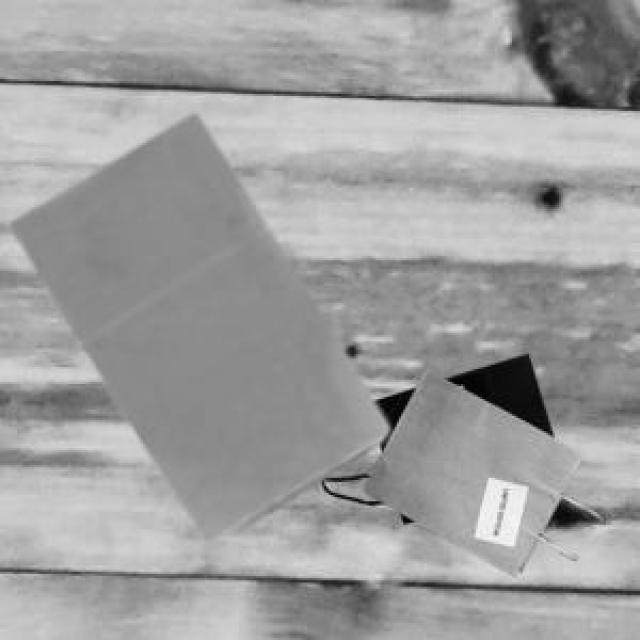paper: (9, 111, 384, 538), (361, 365, 591, 572), (319, 350, 548, 482)
